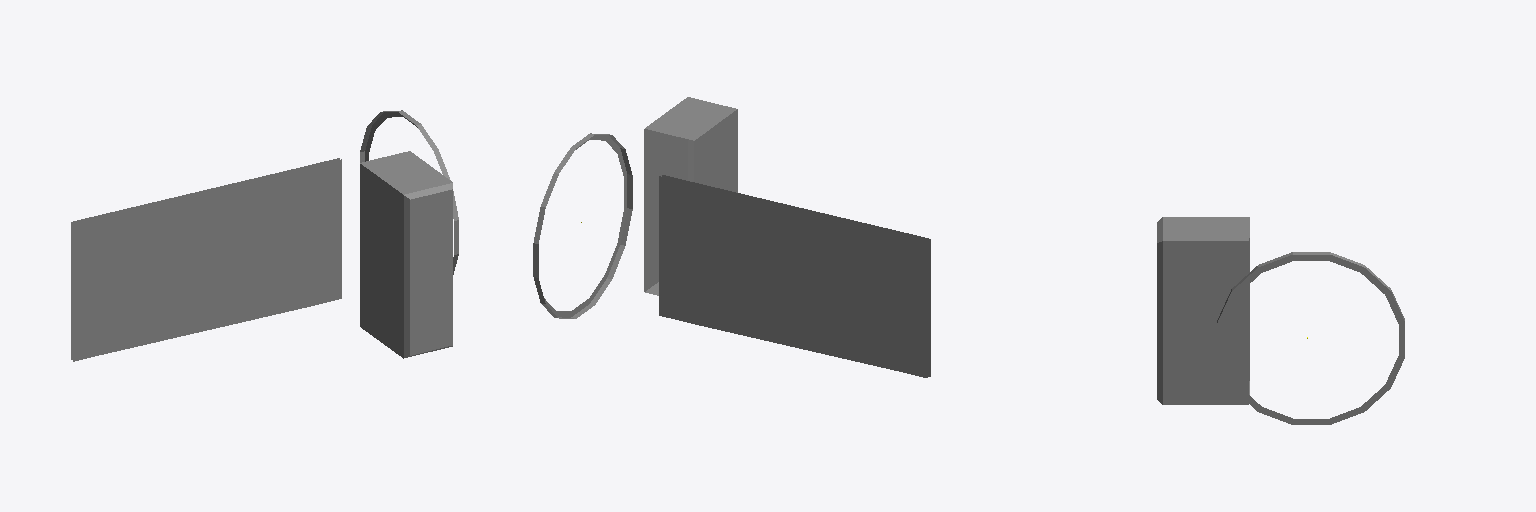
The model's file is cpz01_pipemarkS.obj.
3 renders of one model, left to right at view 1: azimuth 30°, elevation 25°; view 2: azimuth 150°, elevation 25°; view 3: azimuth 270°, elevation 25°, orthographic.
Parts seen in each view (by area): view 1: cpz_obj_watershadow, ccp_metal_yy_metal_Cmn_dpn, ccp_etc_yy_light01_IgnoL_d, cpz_obj_etc_tn1_towerlight_001, cpz_obj_airball; view 2: cpz_obj_airball, ccp_metal_yy_metal_Cmn_dpn, cpz_obj_etc_tn1_towerlight_001, cpz_obj_watershadow; view 3: ccp_metal_yy_metal_Cmn_dpn, cpz_obj_etc_tn1_towerlight_001.
Boxes of the visible parts, <box> form: cpz_obj_watershadow: <box>73,159,341,361</box>; ccp_metal_yy_metal_Cmn_dpn: <box>360,151,452,358</box>; ccp_etc_yy_light01_IgnoL_d: <box>414,195,448,350</box>; cpz_obj_etc_tn1_towerlight_001: <box>360,110,458,342</box>; cpz_obj_airball: <box>71,158,339,359</box>; cpz_obj_airball: <box>659,176,927,377</box>; ccp_metal_yy_metal_Cmn_dpn: <box>644,97,737,295</box>; cpz_obj_etc_tn1_towerlight_001: <box>533,133,632,318</box>; cpz_obj_watershadow: <box>662,175,930,376</box>; ccp_metal_yy_metal_Cmn_dpn: <box>1157,217,1249,404</box>; cpz_obj_etc_tn1_towerlight_001: <box>1217,252,1404,424</box>.
Bounding box in the file's own units: 99.41 × 46.83 × 62.46.